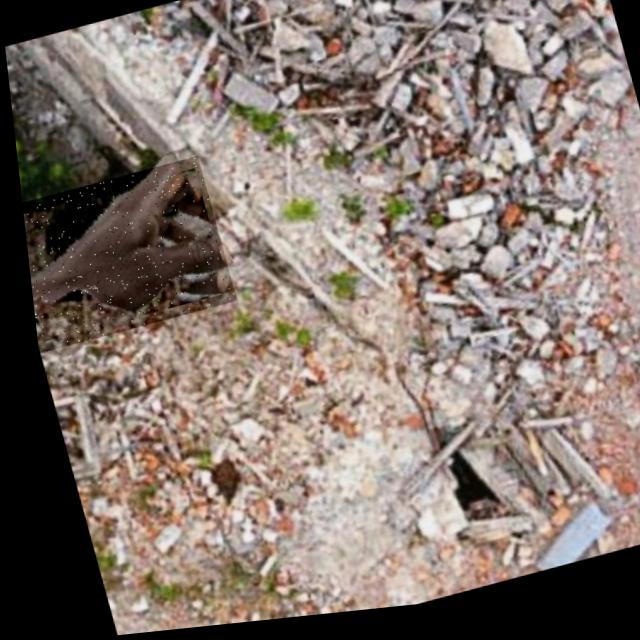Person in Rubble: (15, 158, 233, 353)
